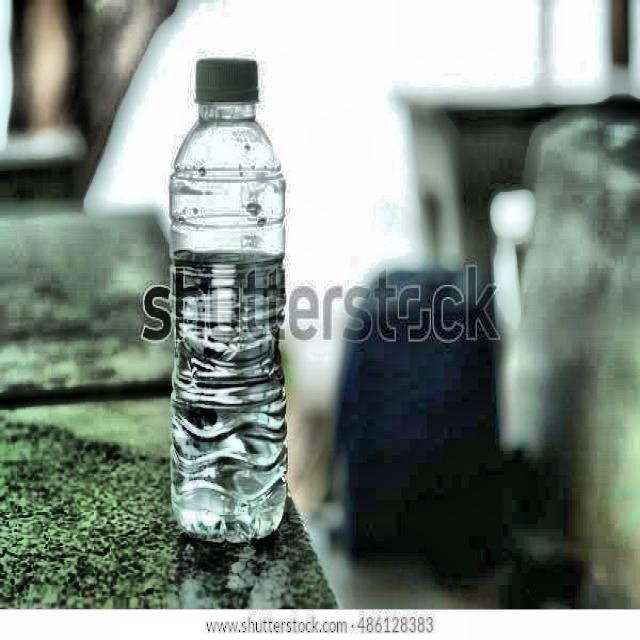Bottles: (163, 53, 290, 552)
